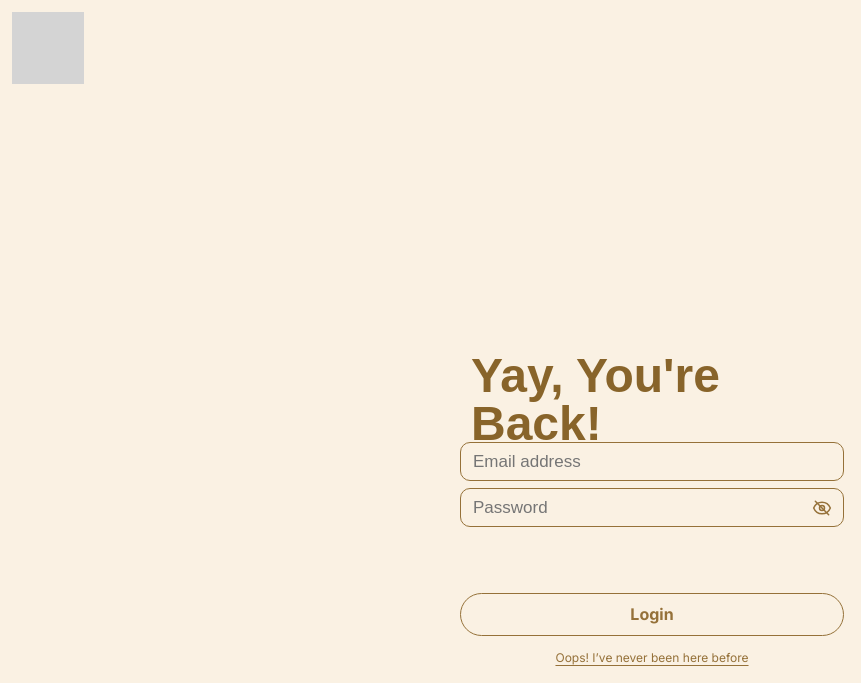
LoginPage › shows backend error message when login fails
The image size is (861, 683).
Step 1. Type "alice@example.com" into the field with placeholder "Email address" → (652, 462), box [460, 442, 844, 481]
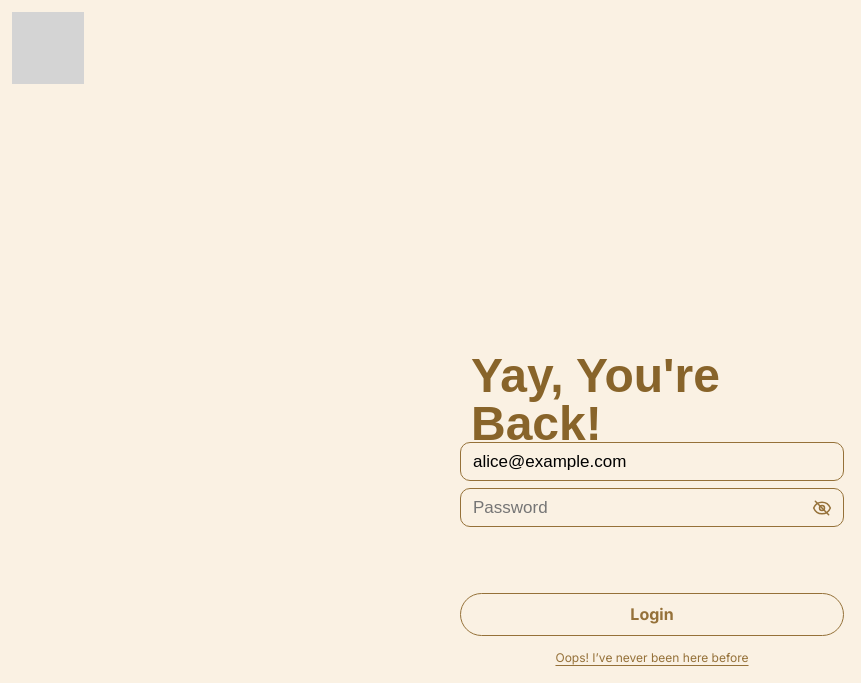
Step 2. Type "bad-password" into the password field with placeholder "Password" → (652, 508), box [460, 488, 844, 527]
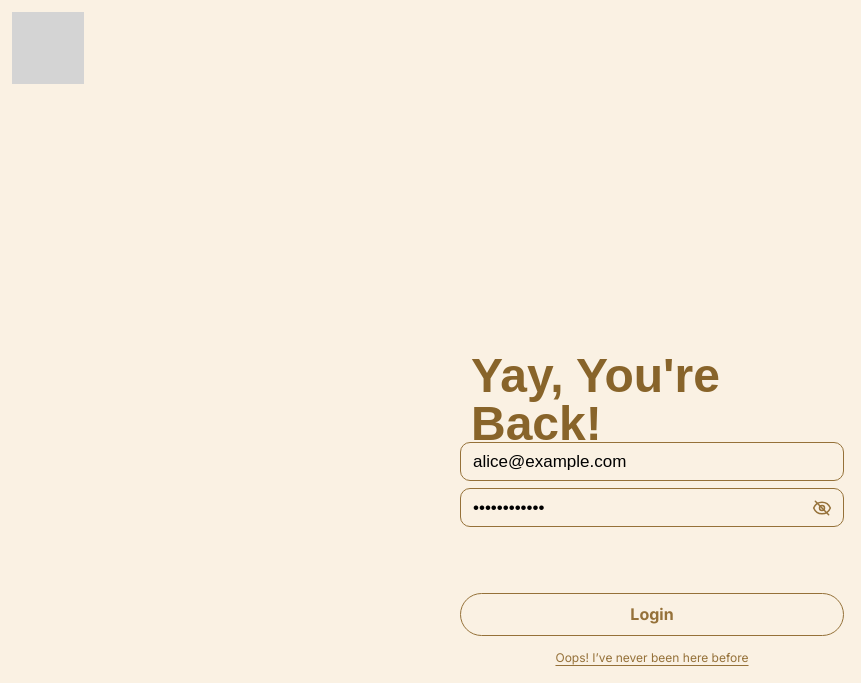
Step 3. Click the button "Login" → (652, 614), box [460, 593, 844, 636]
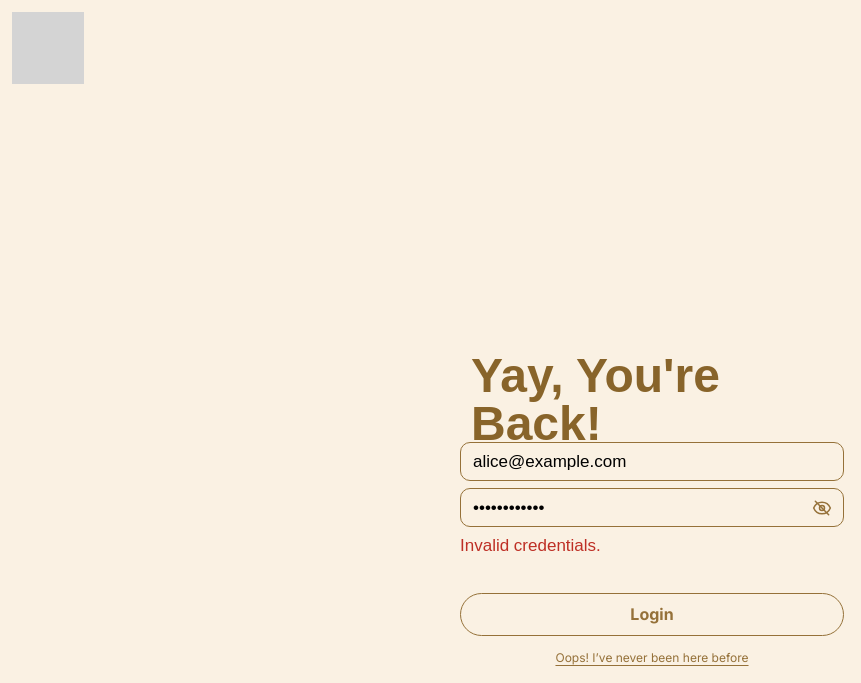
Expected: the text "Invalid credentials." is shown, [460, 536, 601, 555]
